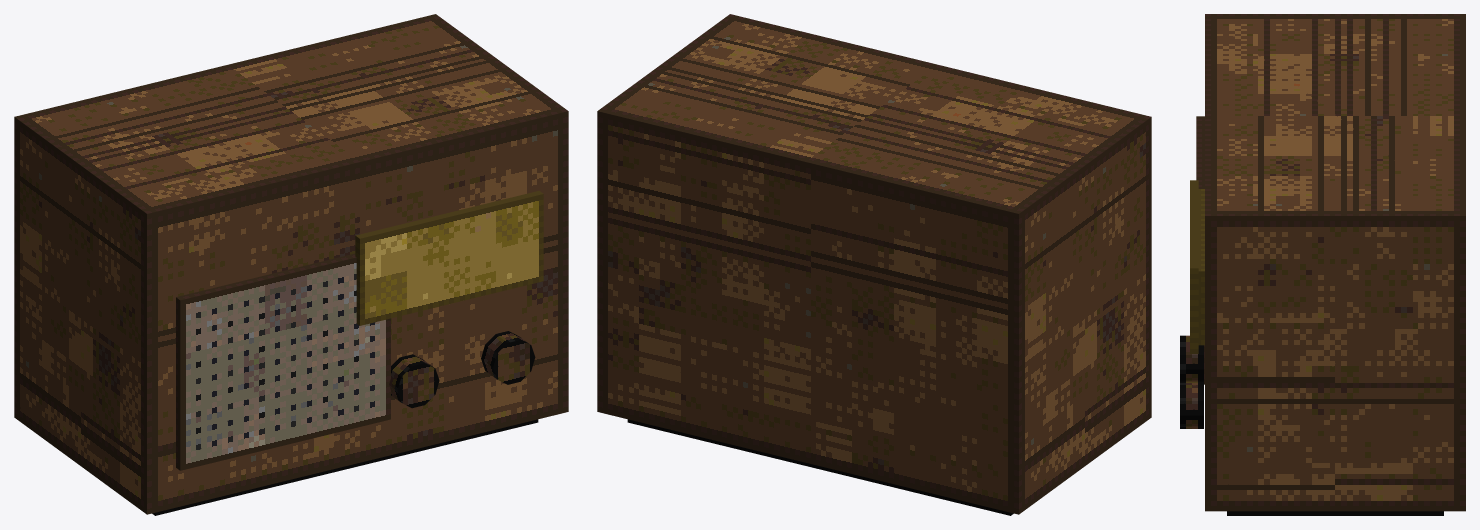
The model's file is SM_Radio_Valve_01.glb.
3 renders of one model, left to right at view 1: azimuth 30°, elevation 25°; view 2: azimuth 150°, elevation 25°; view 3: azimuth 270°, elevation 25°, orthographic.
Parts seen in each view (by area): view 1: SM_Radio_Valve_01; view 2: SM_Radio_Valve_01; view 3: SM_Radio_Valve_01.
Part boxes in pixels (x1,y1,x2,y2): SM_Radio_Valve_01: (14,14,568,515); SM_Radio_Valve_01: (597,14,1151,515); SM_Radio_Valve_01: (1180,14,1465,515).
Size of the model in its own units: 0.44 by 0.314 by 0.263.
1 material, 1 textured.
